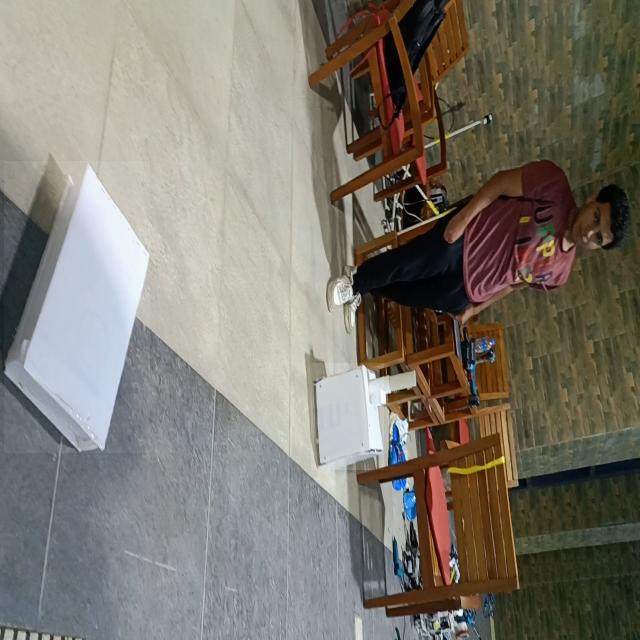Cube: (311, 363, 384, 470)
Cuboid: (4, 161, 150, 453)
